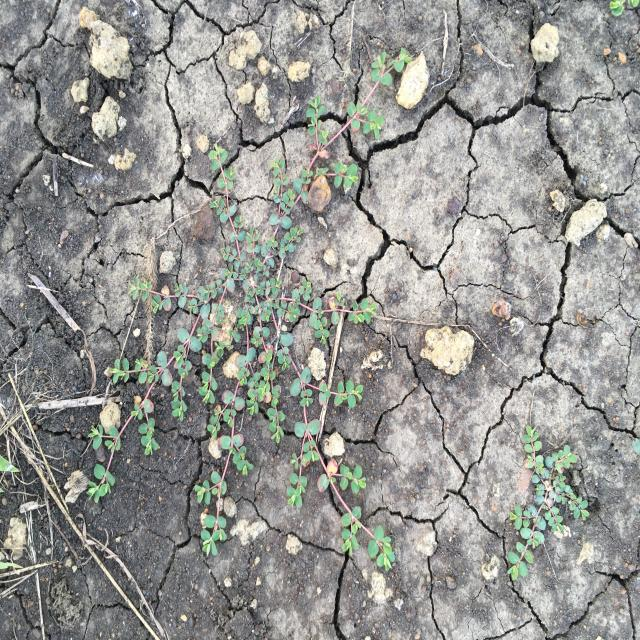SpottedSpurge: (85, 46, 413, 575), (504, 422, 592, 584)
